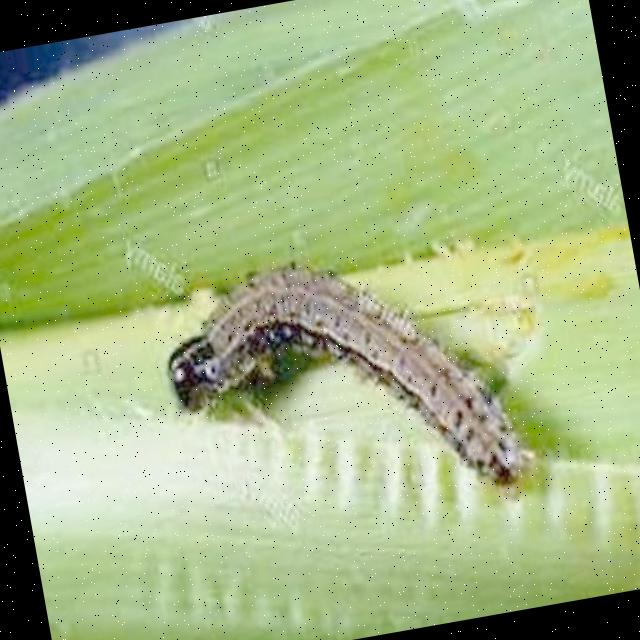worm: (153, 225, 541, 543)
